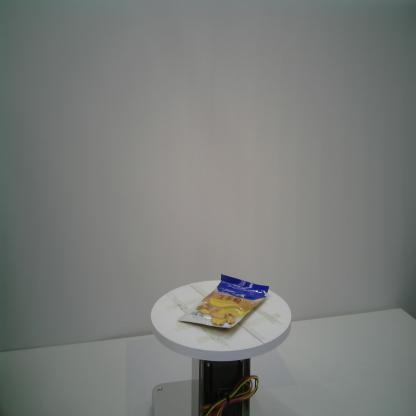Seasoner: (176, 274, 270, 330)
